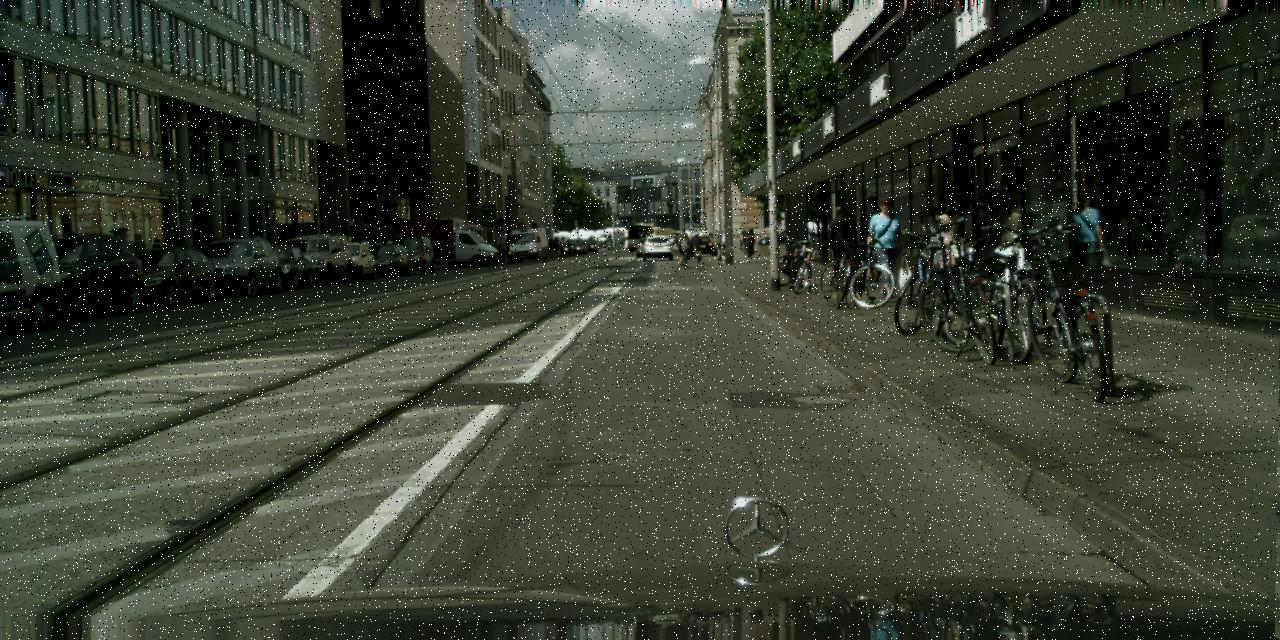ped: (866, 198, 906, 297), (854, 196, 887, 277), (826, 206, 856, 278), (130, 233, 148, 278), (149, 237, 164, 277), (676, 227, 690, 261), (742, 226, 754, 256), (719, 228, 730, 259), (738, 226, 748, 252), (374, 239, 384, 263), (692, 234, 702, 258), (386, 238, 394, 258), (558, 236, 565, 253), (546, 238, 552, 253), (552, 237, 558, 252)
